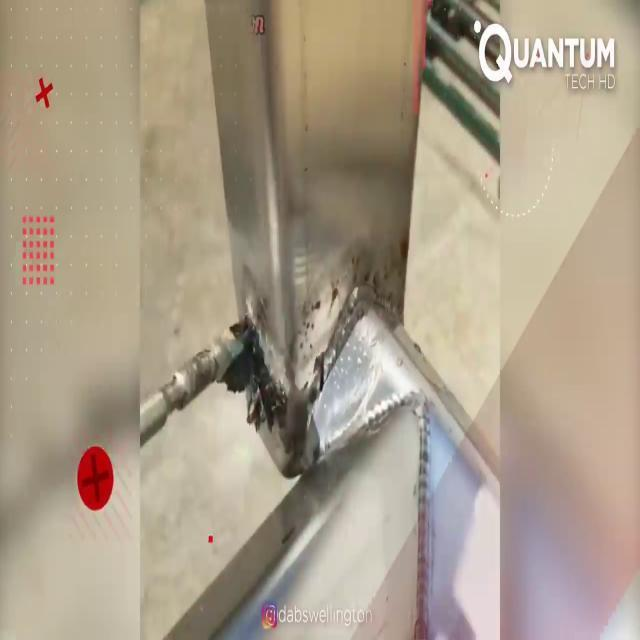Good Welding: (141, 0, 419, 476)
